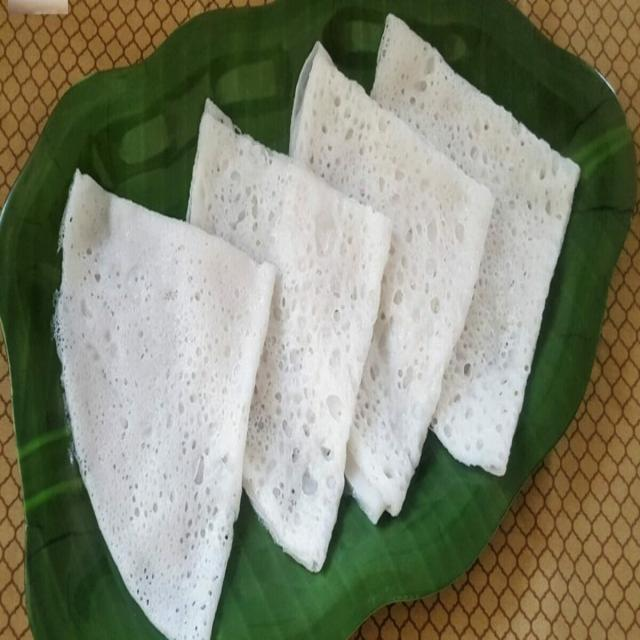DOSA: (54, 171, 274, 639), (290, 43, 492, 522), (371, 17, 579, 474), (187, 101, 389, 571)
